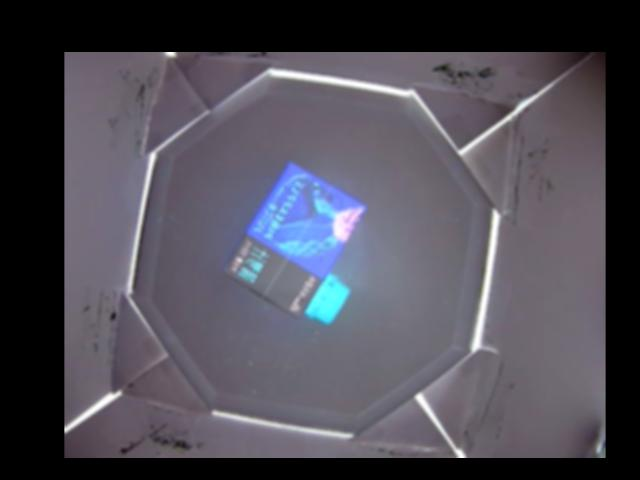Bottle: (222, 160, 367, 323)
